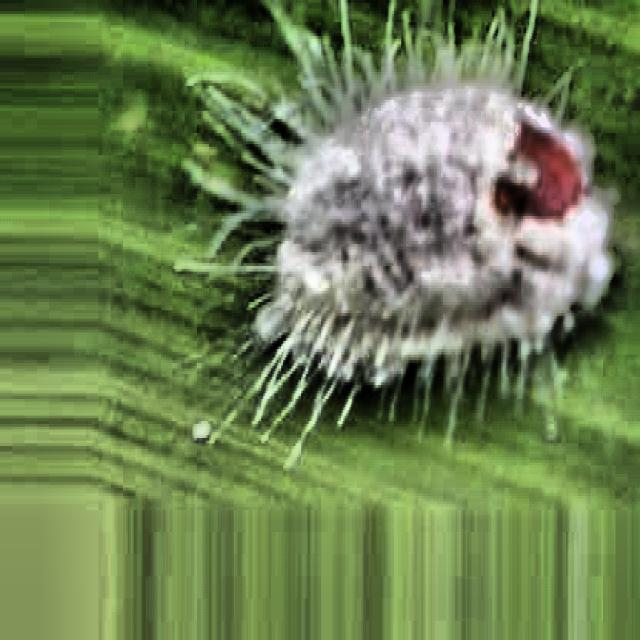Mealy-bug: (185, 0, 635, 414)
